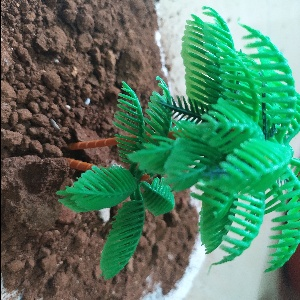plant: (174, 18, 300, 267), (68, 68, 195, 291)
